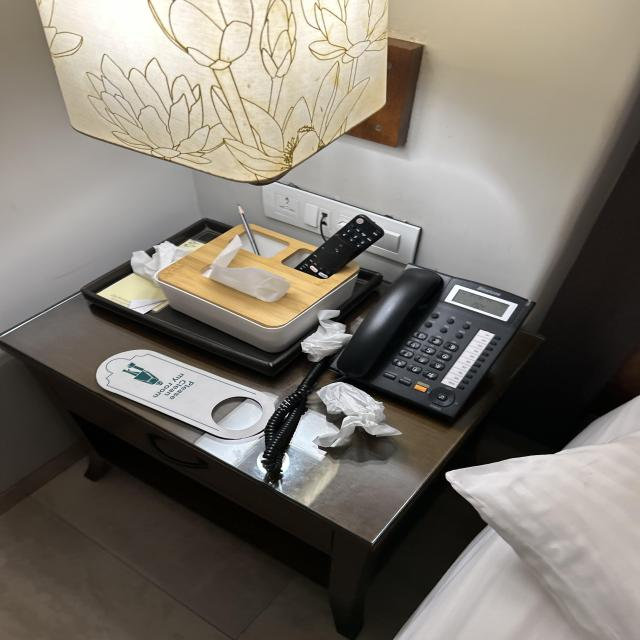mess: (4, 170, 540, 545)
